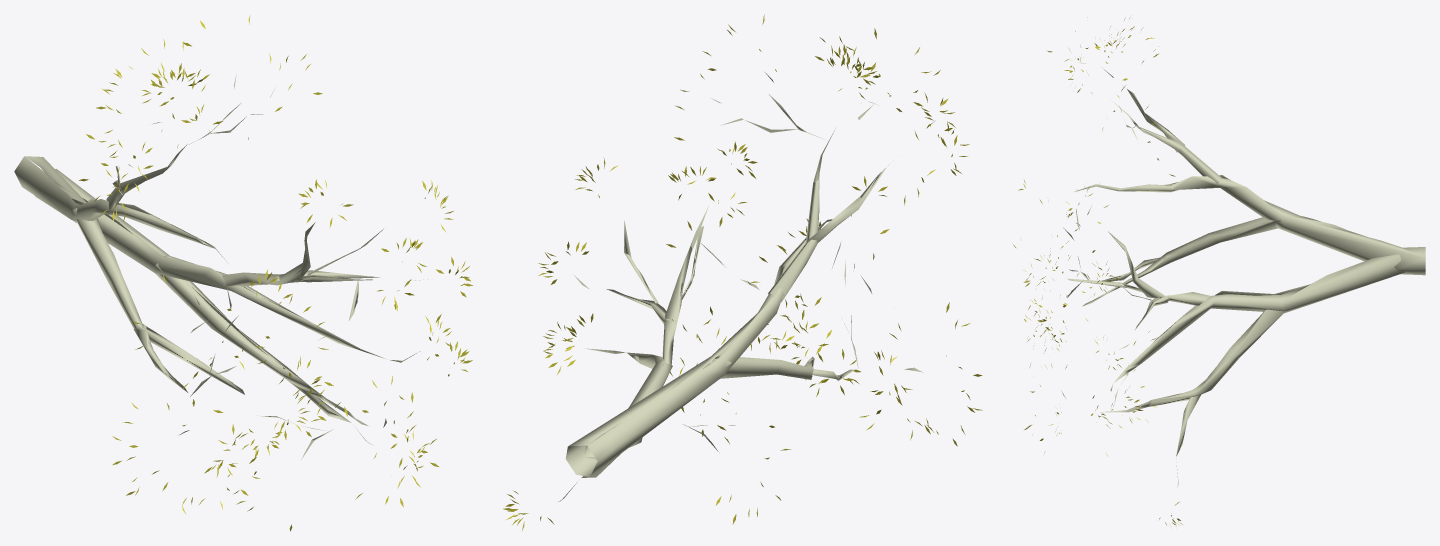
Rendered from tree1WithLeaves_low.glb.
3 renders of one model, left to right at view 1: azimuth 30°, elevation 25°; view 2: azimuth 150°, elevation 25°; view 3: azimuth 270°, elevation 25°, orthographic. The views are drawn at different scales.
Visible parts, largest first — view 1: tree1WithLeaves; view 2: tree1WithLeaves; view 3: tree1WithLeaves.
Boxes of the visible parts, x1=… form: tree1WithLeaves: x1=14, y1=15, x2=472, y2=531; tree1WithLeaves: x1=503, y1=14, x2=982, y2=530; tree1WithLeaves: x1=1013, y1=17, x2=1425, y2=525.
Size of the model in its own units: 1.96 by 2.51 by 2.3.
